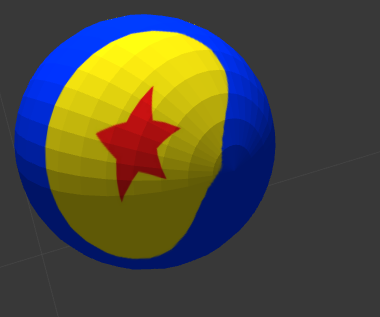toy story ball: (14, 14, 275, 269)
